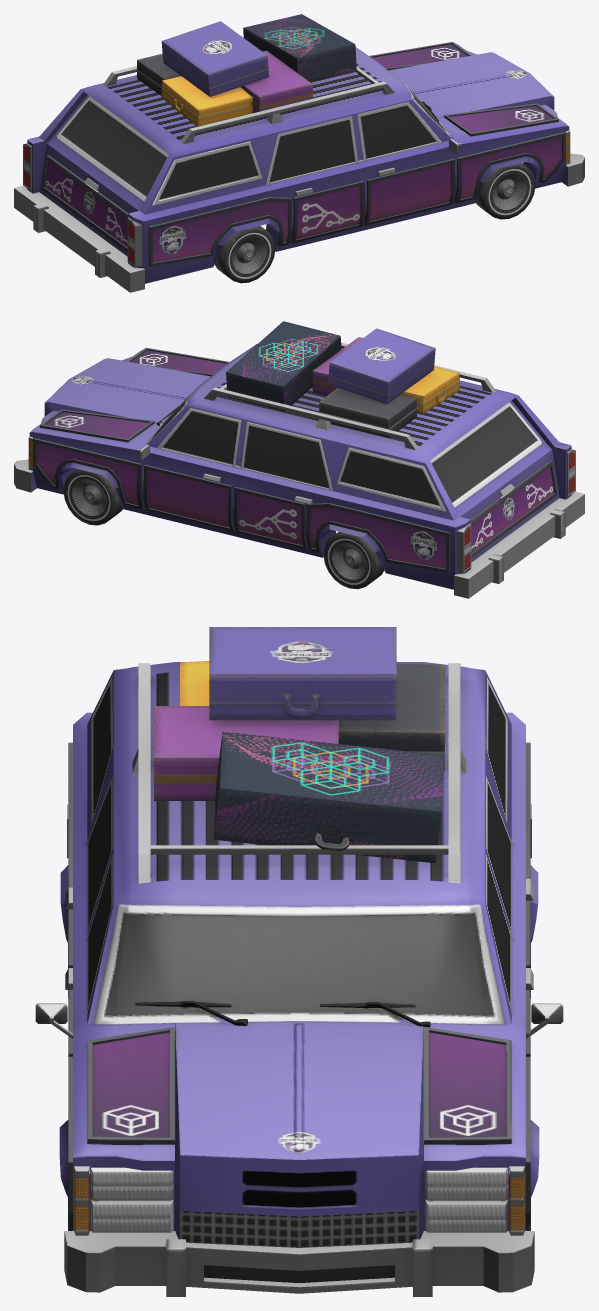
File: f1_october_wagon_02_with_wheel.dae
The picture shows the model from 3 angles, top to bottom: view 1: azimuth 30°, elevation 25°; view 2: azimuth 150°, elevation 25°; view 3: azimuth 270°, elevation 25°; orthographic projection. The views are drawn at different scales.
Visible parts, largest first — view 1: october-wagon-body, october-wagon-wheels; view 2: october-wagon-body, october-wagon-wheels; view 3: october-wagon-body.
Boxes of the visible parts, x1,y1,x2,y2 form: october-wagon-body: [14, 14, 584, 292]; october-wagon-wheels: [214, 163, 535, 283]; october-wagon-body: [14, 321, 584, 598]; october-wagon-wheels: [63, 469, 384, 589]; october-wagon-body: [35, 627, 563, 1296].
Size of the model in its own units: 0.4067 by 0.1993 by 0.1575.
2 materials, 2 textured.
